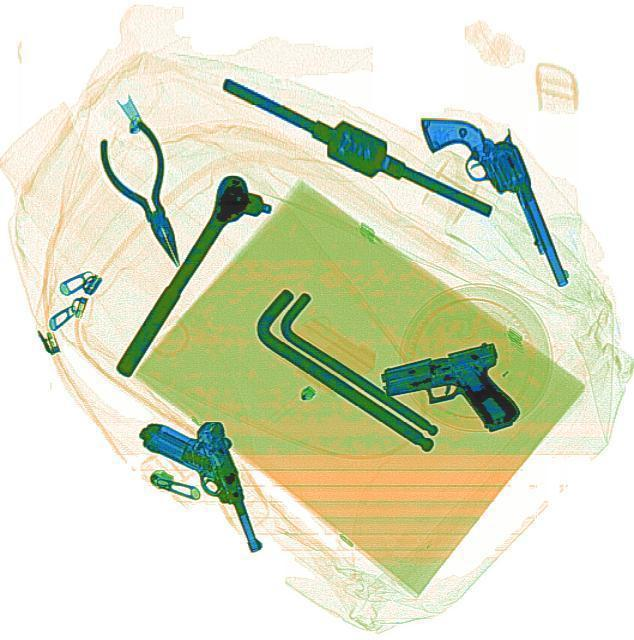Gun: (416, 91, 570, 309), (134, 401, 270, 571), (375, 340, 522, 450)
Pliers: (88, 116, 208, 274)
